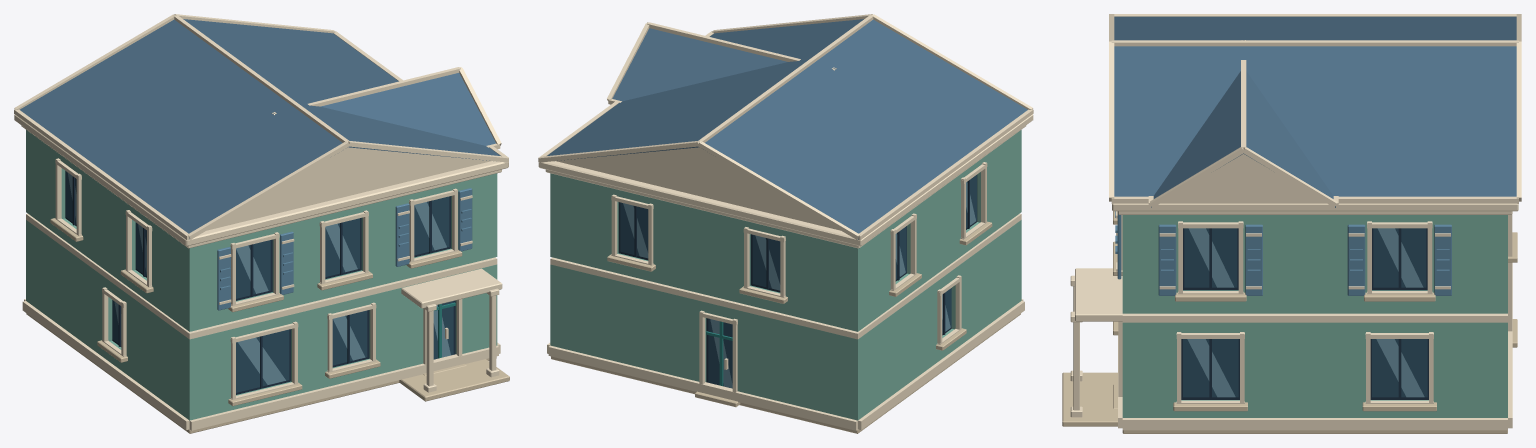
File: gabled_corner_home.glb
3 renders of one model, left to right at view 1: azimuth 30°, elevation 25°; view 2: azimuth 150°, elevation 25°; view 3: azimuth 270°, elevation 25°, orthographic. The views are drawn at different scales.
Visible parts, largest first — view 1: GabledCornerHome_StaticMesh; view 2: GabledCornerHome_StaticMesh; view 3: GabledCornerHome_StaticMesh.
Part boxes in pixels (<box>): GabledCornerHome_StaticMesh: <box>14,14,509,433</box>; GabledCornerHome_StaticMesh: <box>538,14,1033,433</box>; GabledCornerHome_StaticMesh: <box>1062,14,1521,433</box>.
Size of the model in its own units: 11 by 8.2 by 11.21.
